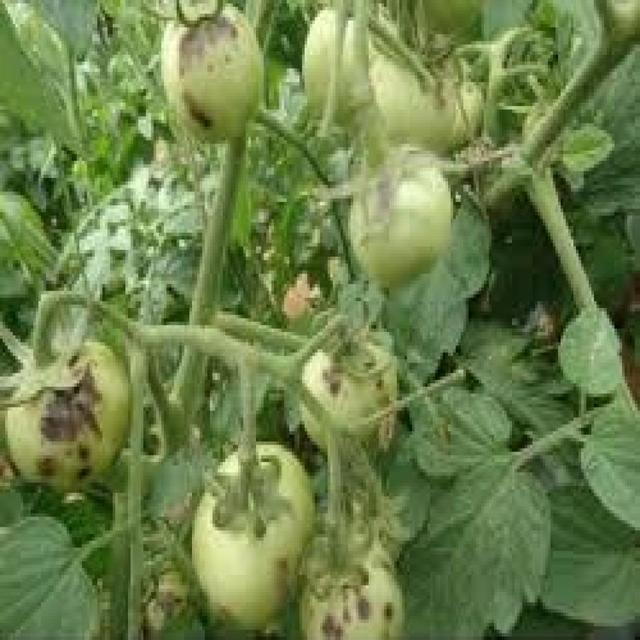Spotted wilt Virus Fruit: (47, 48, 269, 390)
